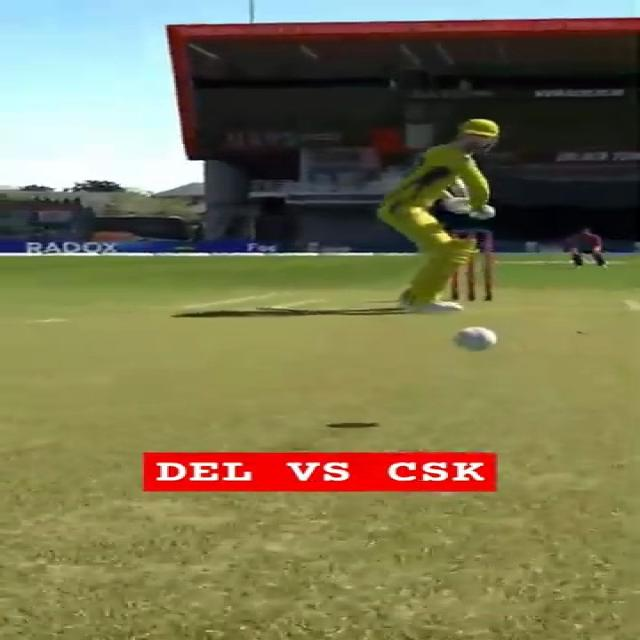ball: (450, 326, 500, 352)
